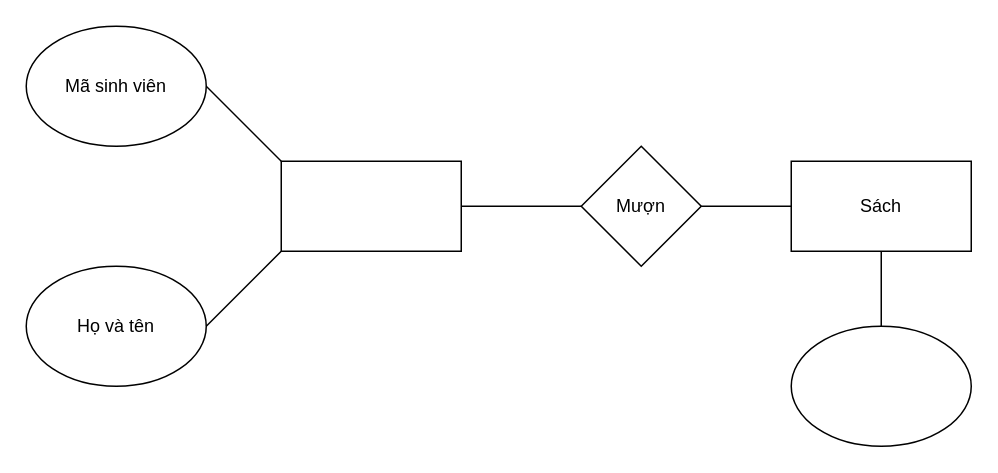
This 998x473 diagram has some shape labels left out. The shapes that lost their labels are listed below. From the top down, each one's box as (x1, y1, x2, y2) in pixels, then its label:
(280, 160, 461, 251): Sinh viên
(790, 325, 971, 446): Mã sách
